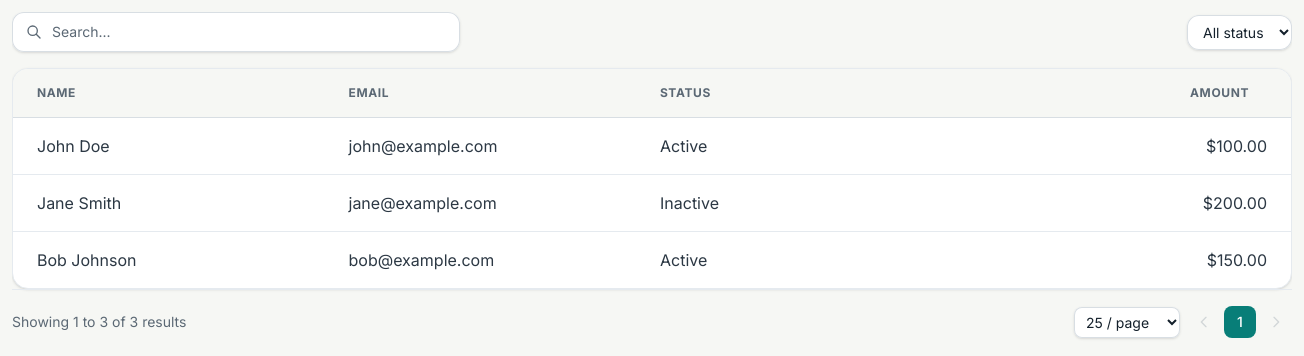
Test: DataTable › Search › filters data when searching
This screenshot has width=1304, height=356.
Step 1. Type "John" into the field with placeholder "Search..." → (236, 32), box [12, 12, 460, 52]
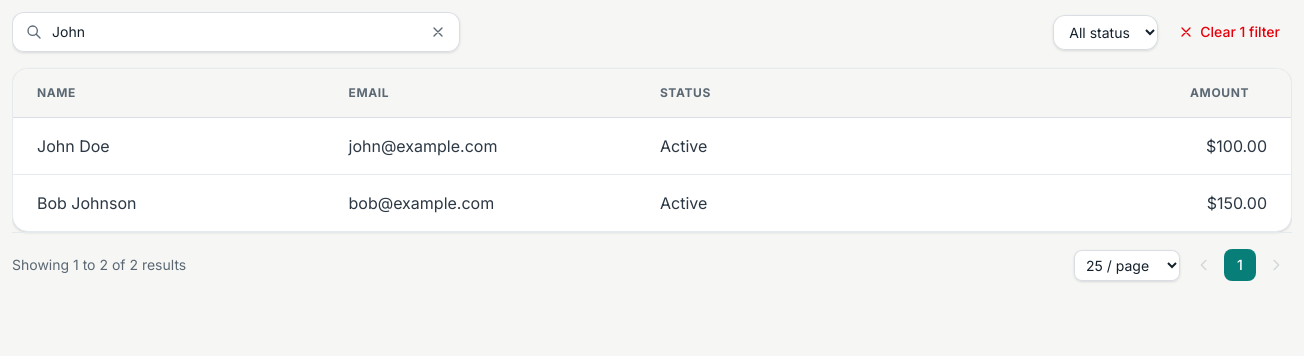
Expected: the text "John Doe" is shown, [37, 136, 110, 156]
Expected: the text "Jane Smith" is gone
